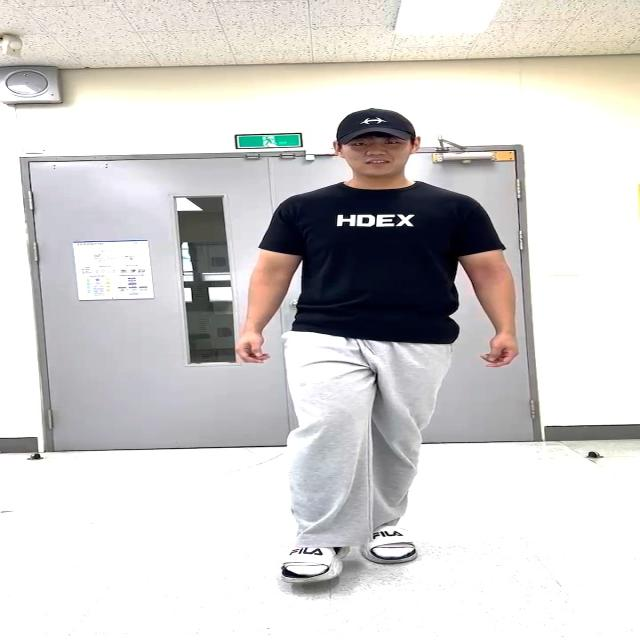leg: (276, 346, 368, 583), (377, 347, 433, 567)
